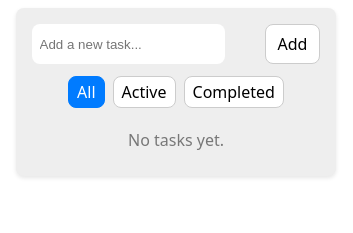
Test: T2 - very short title, non-empty list, filter All › T2 - should add a very short but valid task title
This screenshot has width=353, height=233.
پیش‌شرط: لیست غیرخالی
Type "Existing task" into the field with placeholder "Add a new task..." at (128,44), box [32, 24, 224, 64]
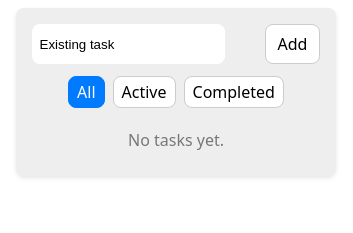
Click the button "Add" at (292,44), box [264, 24, 320, 64]
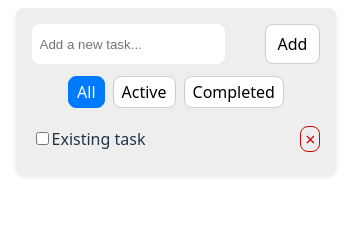
Expected: the text "Existing task" is shown, [52, 128, 145, 150]
عنوان خیلی کوتاه (مثلاً "a")
Type "a" into the field with placeholder "Add a new task..." at (128,44), box [32, 24, 224, 64]
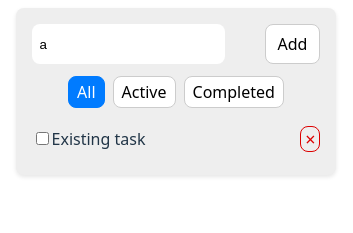
Click the button "Add" at (292,44), box [264, 24, 320, 64]
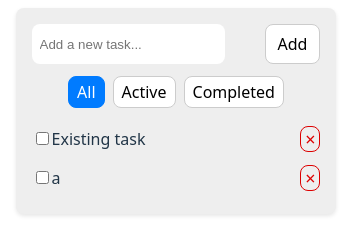
Expected: the text "a" is shown, [52, 167, 60, 189]
Expected: the field with placeholder "Add a new task..." is empty, [32, 24, 224, 64]
